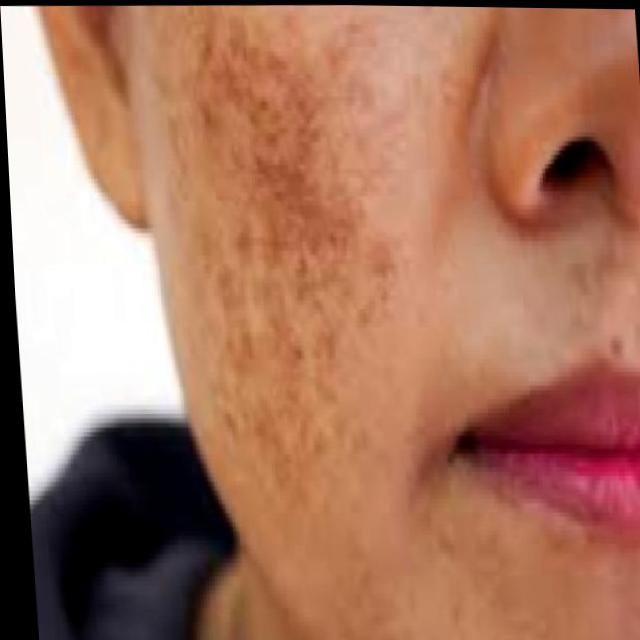Melasma: (190, 58, 382, 373)
